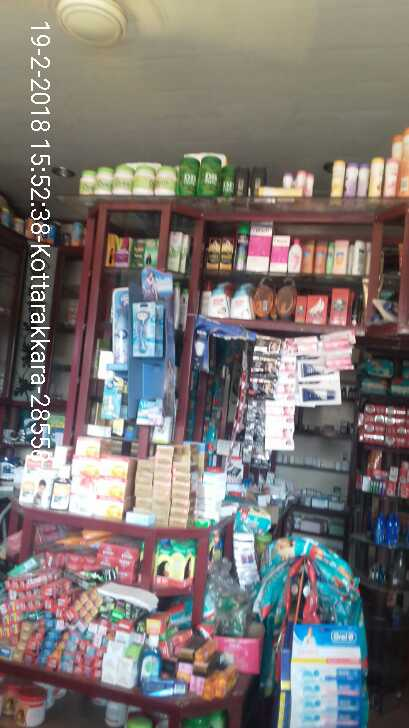beauty: (132, 300, 163, 356)
home: (109, 301, 130, 367)
